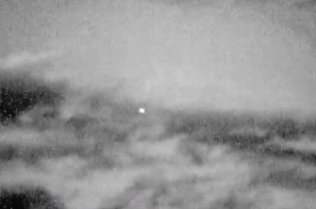Target: (140, 108, 145, 113)
